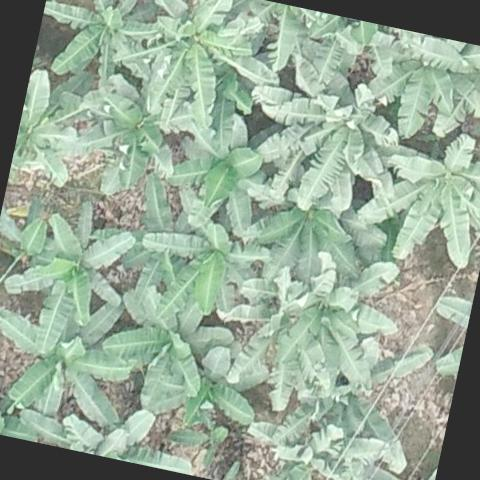Banana-plant: (218, 232, 412, 400), (246, 70, 411, 225), (0, 276, 140, 429), (353, 113, 480, 273), (106, 0, 262, 130), (0, 189, 138, 332), (94, 288, 237, 412), (132, 193, 268, 322), (66, 72, 188, 206), (355, 24, 480, 148), (160, 105, 280, 234), (248, 187, 384, 297), (30, 0, 169, 98), (234, 410, 405, 480), (150, 342, 266, 433), (8, 66, 90, 192)
